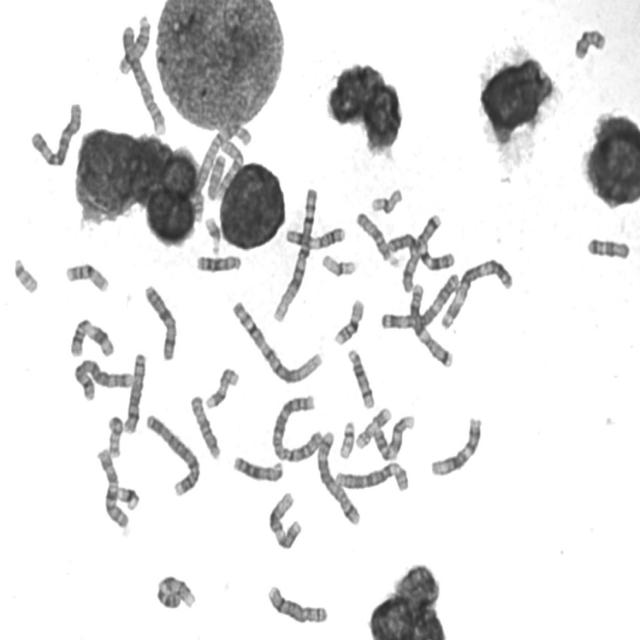A1: (229, 296, 325, 386), (270, 182, 319, 324)
A2: (192, 121, 254, 224), (269, 390, 325, 465)
A3: (438, 255, 516, 331), (378, 270, 462, 332)
B4: (119, 20, 168, 136), (143, 410, 202, 498)
B5: (314, 427, 363, 527), (72, 354, 136, 402)
C10: (94, 444, 130, 532), (215, 139, 246, 202)
C11: (67, 316, 116, 360), (282, 223, 348, 251)
C12: (428, 413, 484, 478), (266, 488, 304, 551)
C6: (28, 99, 84, 169), (332, 459, 410, 494)
C7: (407, 280, 455, 369), (413, 210, 456, 272)
C8: (264, 581, 330, 626), (121, 349, 148, 435)
C9: (371, 411, 416, 462), (154, 572, 198, 612)
D13: (231, 452, 285, 484), (195, 254, 241, 274)
D14: (116, 10, 152, 76), (345, 346, 376, 410)
D15: (353, 208, 400, 268), (190, 394, 222, 461)
E16: (332, 295, 366, 347), (63, 259, 111, 294)
E17: (354, 405, 394, 450), (203, 364, 240, 411)
E18: (585, 234, 632, 262), (205, 154, 226, 202)
F19: (319, 250, 358, 278), (368, 185, 404, 215)
F20: (572, 24, 608, 62), (105, 412, 124, 459)
G21: (114, 482, 142, 512), (204, 216, 222, 256)
G22: (10, 254, 40, 295), (336, 417, 356, 461)
X: (142, 281, 179, 363), (385, 230, 422, 294)
